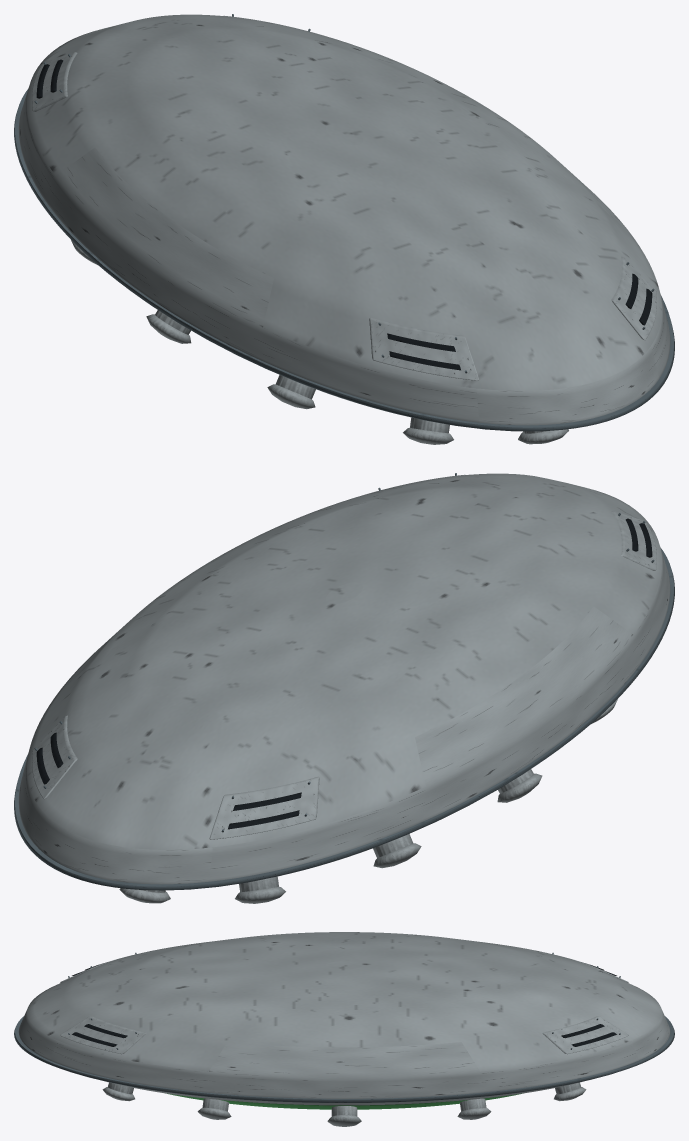
3 renders of one model, top to bottom at view 1: azimuth 30°, elevation 25°; view 2: azimuth 150°, elevation 25°; view 3: azimuth 270°, elevation 25°, orthographic. The views are drawn at different scales.
Visible parts, largest first — view 1: ServiceAssemblies, PrimaryHullAndArmour, RecessedMachinery; view 2: ServiceAssemblies, PrimaryHullAndArmour, RecessedMachinery; view 3: ServiceAssemblies, PrimaryHullAndArmour, RecessedMachinery.
Part boxes in pixels (x1,y1,x2,y2): ServiceAssemblies: [18, 14, 670, 433]; PrimaryHullAndArmour: [14, 89, 674, 444]; RecessedMachinery: [36, 59, 652, 370]; ServiceAssemblies: [18, 473, 670, 892]; PrimaryHullAndArmour: [14, 548, 674, 903]; RecessedMachinery: [36, 518, 652, 829]; ServiceAssemblies: [18, 932, 670, 1116]; PrimaryHullAndArmour: [14, 1016, 674, 1126]; RecessedMachinery: [72, 963, 616, 1046].
Size of the model in its own units: 2.12 by 0.8125 by 4.35.
1 material, 1 textured.
